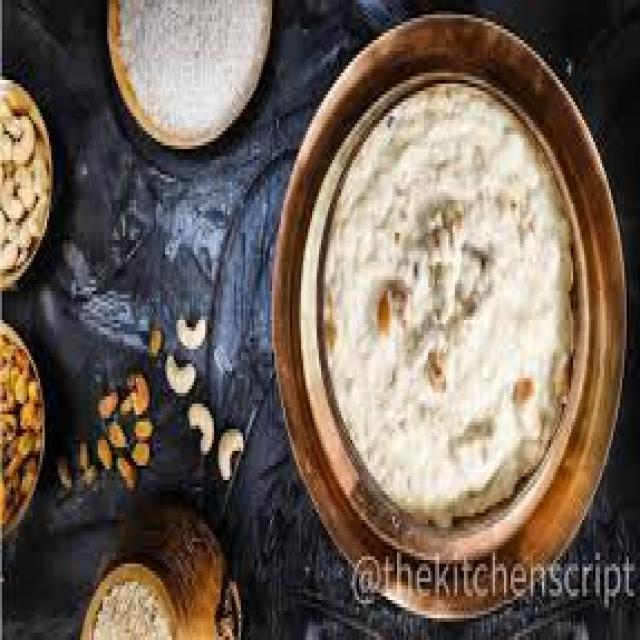Kheer: (318, 74, 576, 530)
